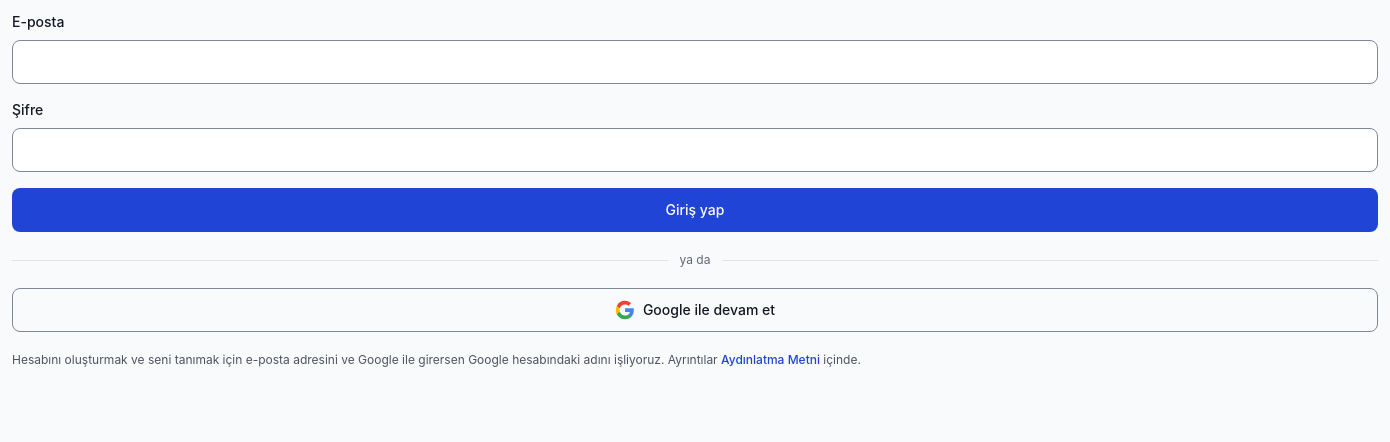
Test: CredentialsForm › hatalı giriş: alan belirtmeyen tek mesaj, buton yeniden etkin
Type "ayse@example.test" into the field labelled "E-posta" at (695, 62), box [12, 40, 1378, 84]
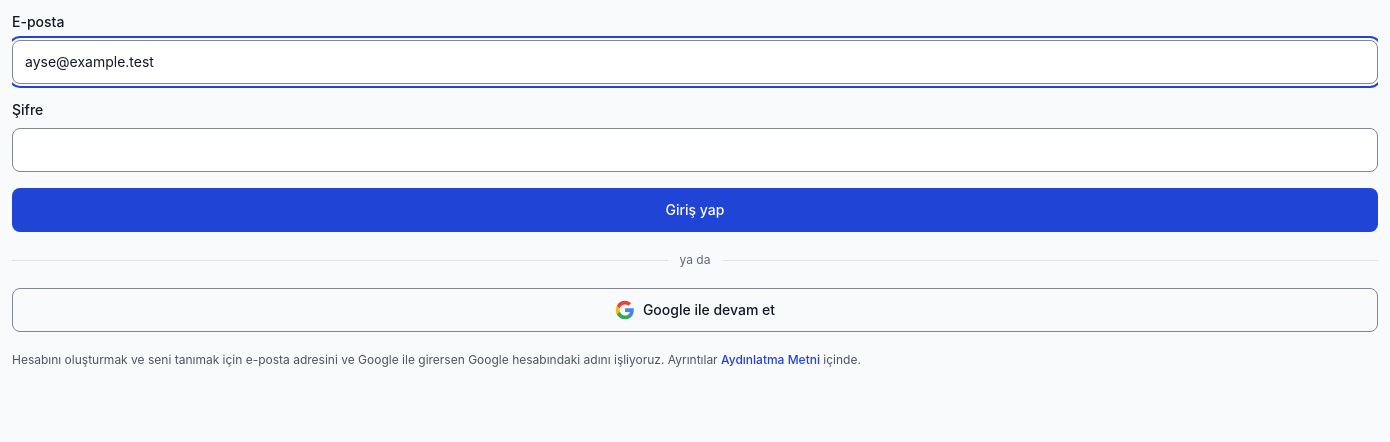
Type "yanlis-sifre" into the password field labelled "Şifre" at (695, 150), box [12, 128, 1378, 172]
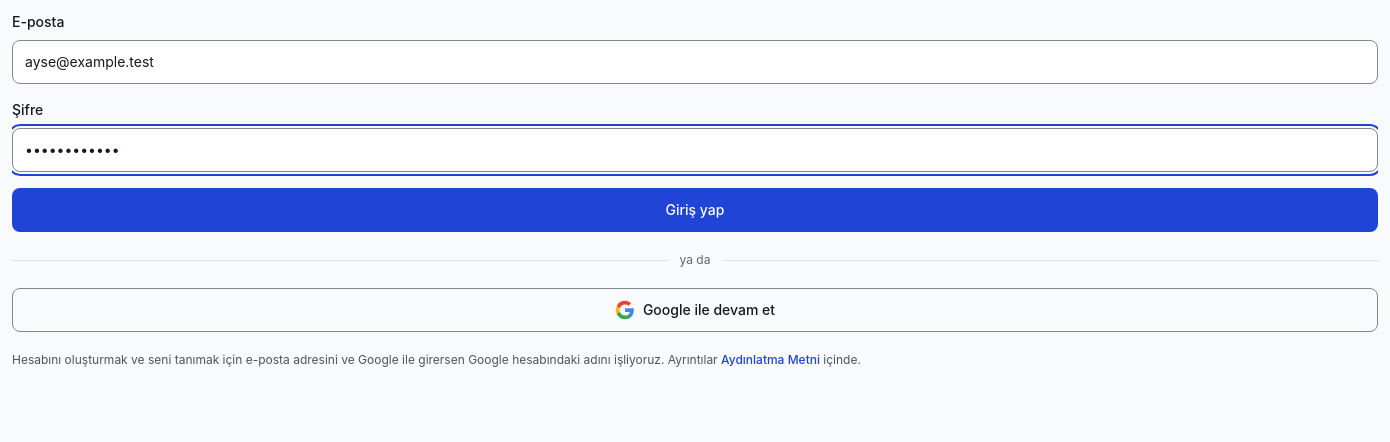
Click the button with test id "auth-submit" at (695, 210), box [12, 188, 1378, 232]
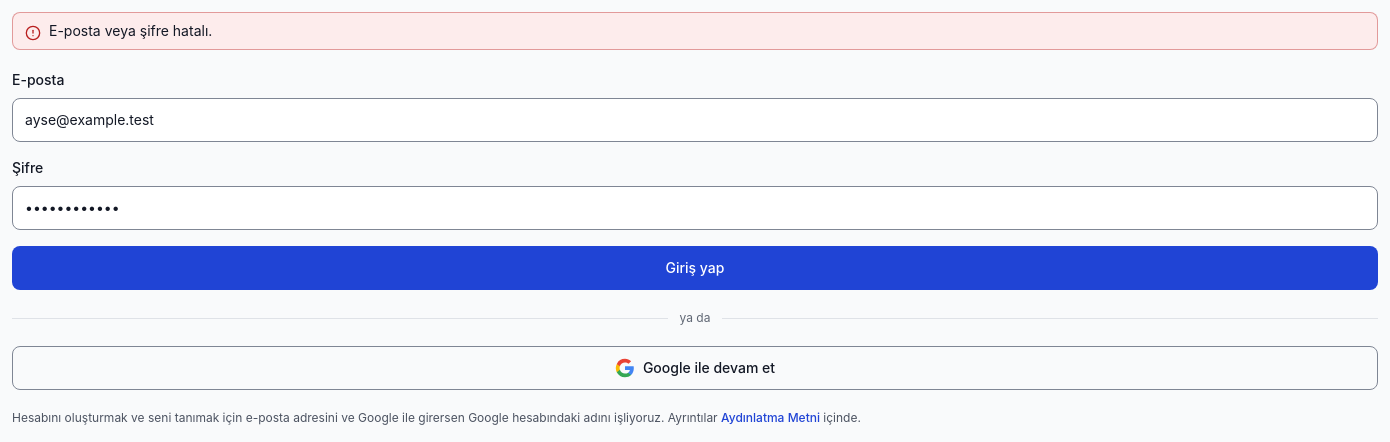
Expected: the button with test id "auth-submit" is enabled, [12, 246, 1378, 290]
Result: the message reads "E-posta veya şifre hatalı." at [49, 22, 212, 39]
